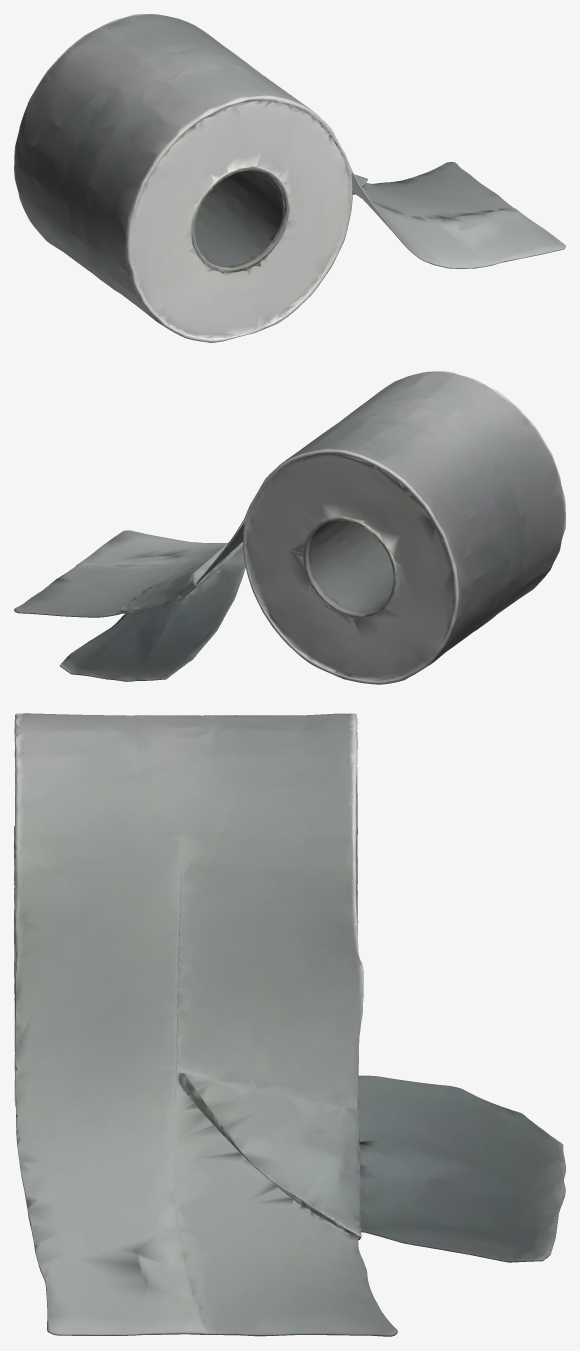
File: pmh-t-160.glb
3 views of the same model, one above another, from view 1: azimuth 30°, elevation 25°; view 2: azimuth 150°, elevation 25°; view 3: azimuth 270°, elevation 25° (orthographic). The views are drawn at different scales.
Parts seen in each view (by area): view 1: tripo_node_806ad533-3024-4046-aba8-9a9428972aeb; view 2: tripo_node_806ad533-3024-4046-aba8-9a9428972aeb; view 3: tripo_node_806ad533-3024-4046-aba8-9a9428972aeb.
Part boxes in pixels (bbox=[...]): tripo_node_806ad533-3024-4046-aba8-9a9428972aeb: bbox=[14, 14, 565, 342]; tripo_node_806ad533-3024-4046-aba8-9a9428972aeb: bbox=[14, 371, 565, 684]; tripo_node_806ad533-3024-4046-aba8-9a9428972aeb: bbox=[14, 713, 565, 1336].
Bounding box in the file's own units: 0.9999 × 0.5064 × 0.7049.
1 material, 1 textured.
